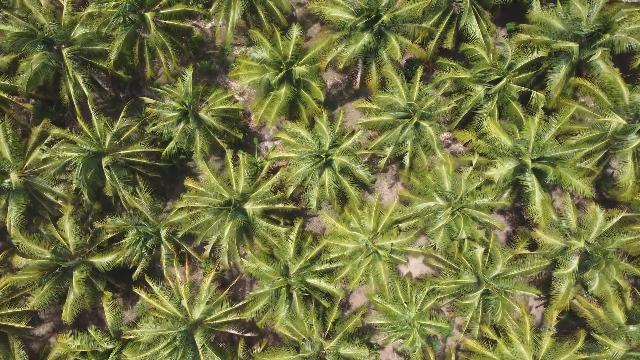trees: (167, 147, 295, 274), (426, 12, 552, 141), (4, 3, 140, 120), (522, 192, 639, 326), (27, 100, 164, 213), (474, 89, 599, 212), (508, 4, 639, 121), (5, 212, 132, 329), (232, 216, 344, 338), (124, 258, 257, 358), (227, 10, 336, 132), (430, 222, 544, 335), (359, 59, 459, 177), (403, 147, 513, 254), (270, 107, 376, 214), (319, 190, 423, 297), (142, 65, 249, 164), (249, 295, 370, 360), (369, 279, 454, 357), (460, 303, 569, 360), (338, 2, 416, 77), (2, 110, 53, 218), (569, 290, 639, 356), (118, 315, 215, 360), (3, 42, 65, 100)
